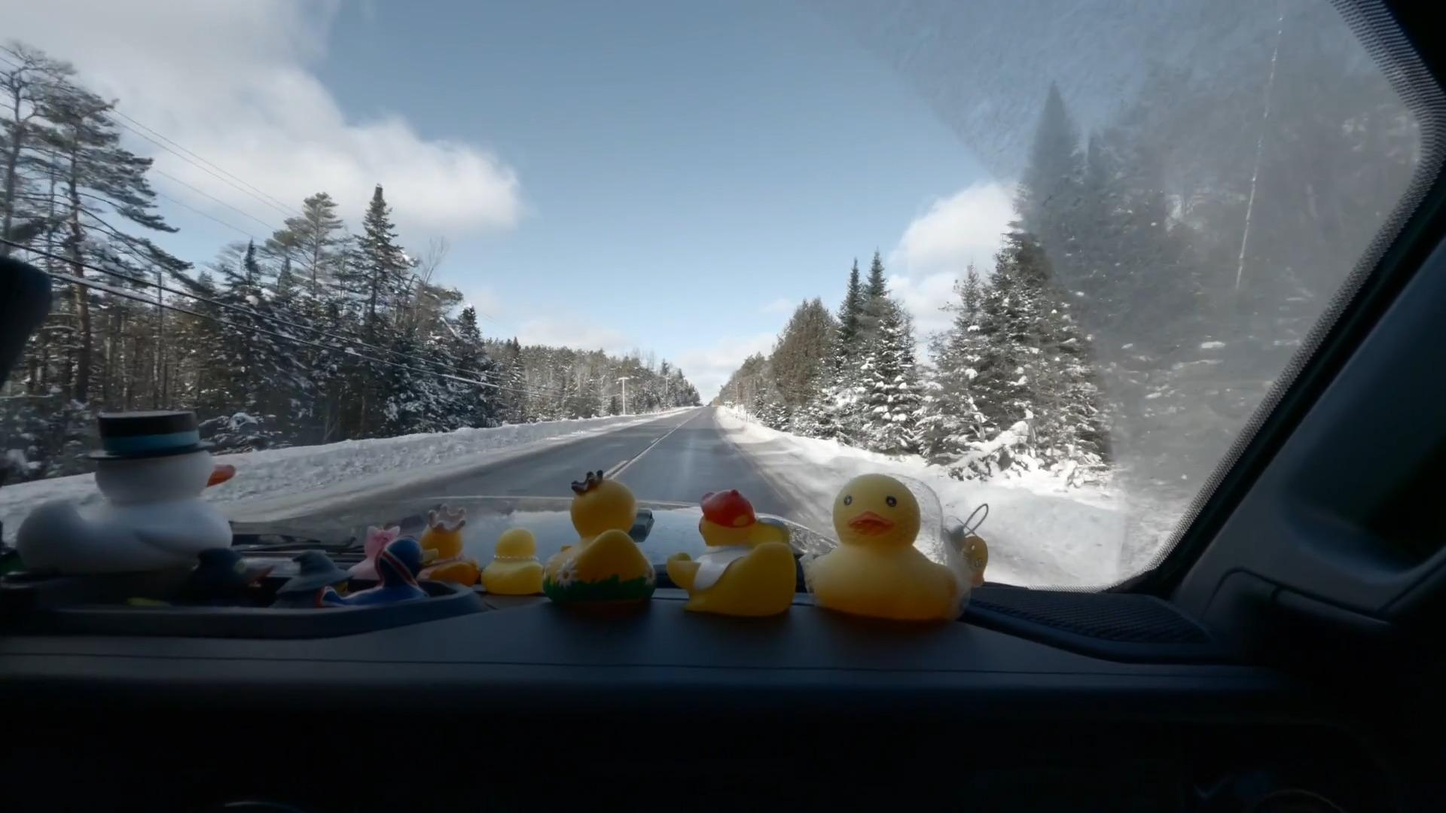Snow: (0, 406, 700, 532), (718, 407, 1162, 586)
wet: (237, 406, 828, 534)
